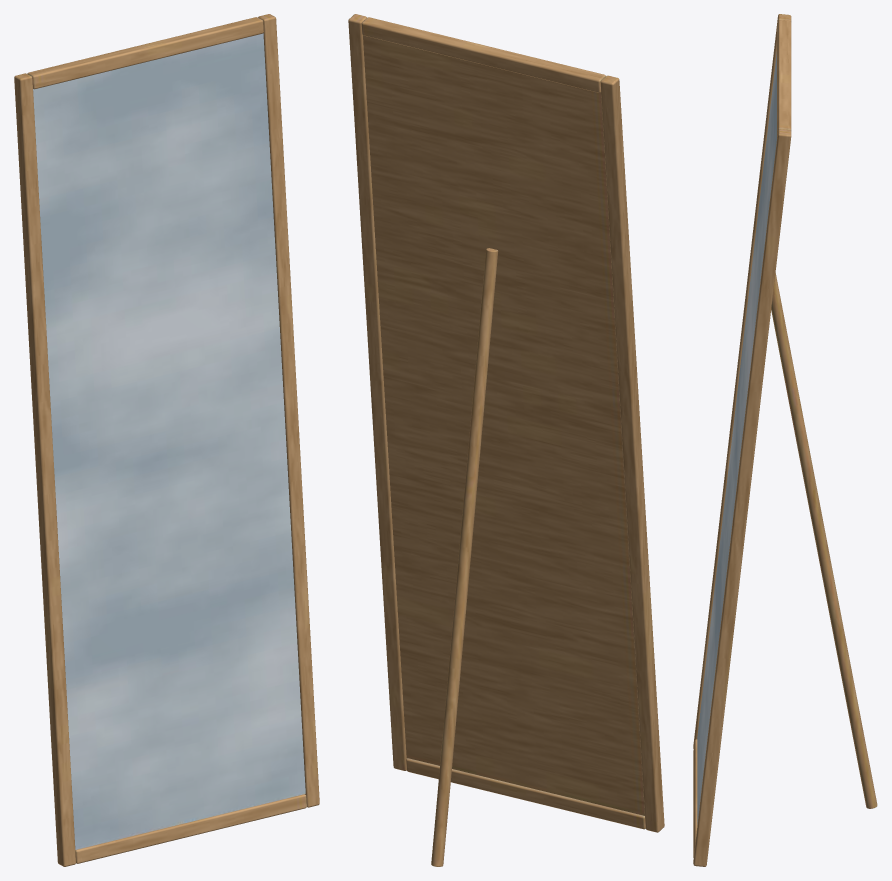
Rendered from floor_mirror.glb.
3 renders of one model, left to right at view 1: azimuth 30°, elevation 25°; view 2: azimuth 150°, elevation 25°; view 3: azimuth 270°, elevation 25°, orthographic. The views are drawn at different scales.
Visible parts, largest first — view 1: Cube; view 2: Cube; view 3: Cube.
Boxes of the visible parts, bbox=[...] form: Cube: bbox=[14, 14, 319, 866]; Cube: bbox=[348, 14, 664, 866]; Cube: bbox=[693, 14, 877, 866].
Bounding box in the file's own units: 0.6 × 1.69 × 0.3851.
Materials: 1 (1 with a texture image).
